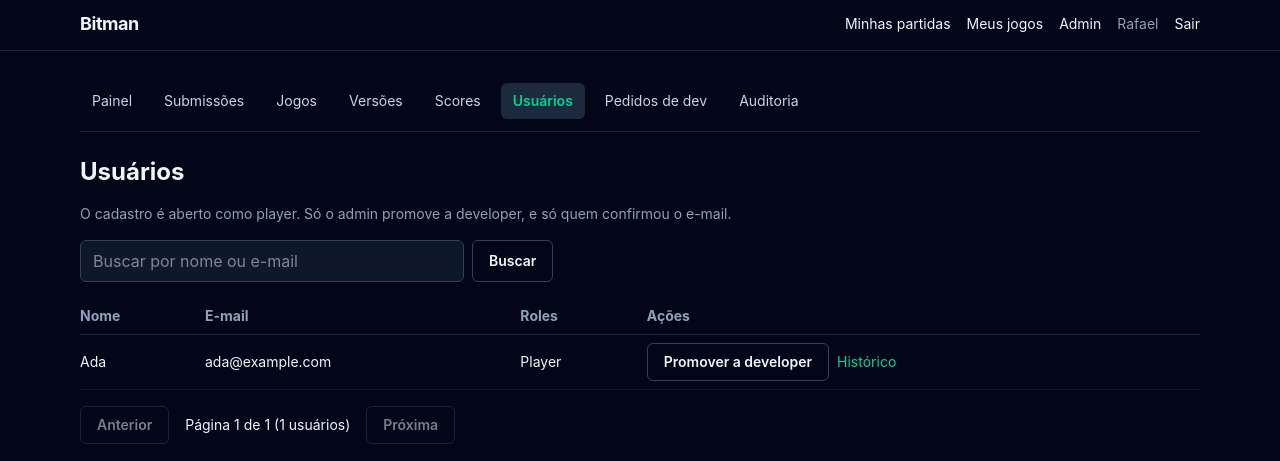
it: UsersPage › promove um player a developer e recarrega a lista
The image size is (1280, 461).
Click the button with aria-label "Promover Ada" at {"x": 738, "y": 362}, box [647,343,829,381]
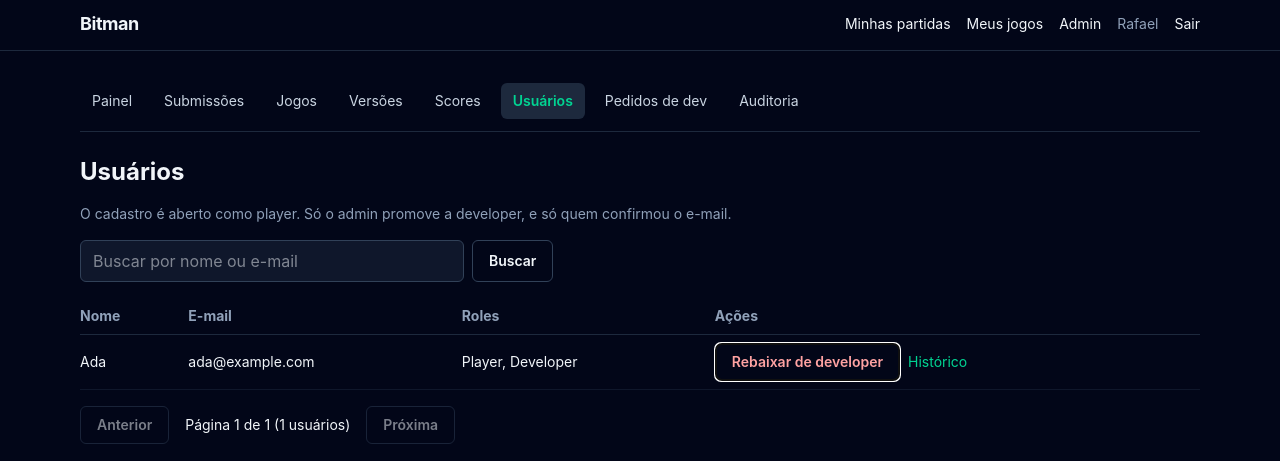
Result: the button with aria-label "Rebaixar Ada" is shown at [715,343,900,381]
Result: the cell "Player, Developer" is shown at [462,334,715,390]
